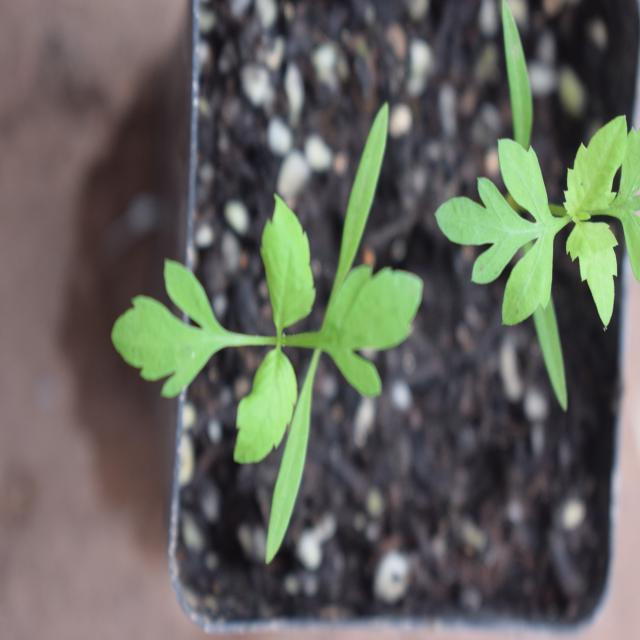Bidens pilosa: (96, 146, 437, 521), (442, 75, 640, 360)
